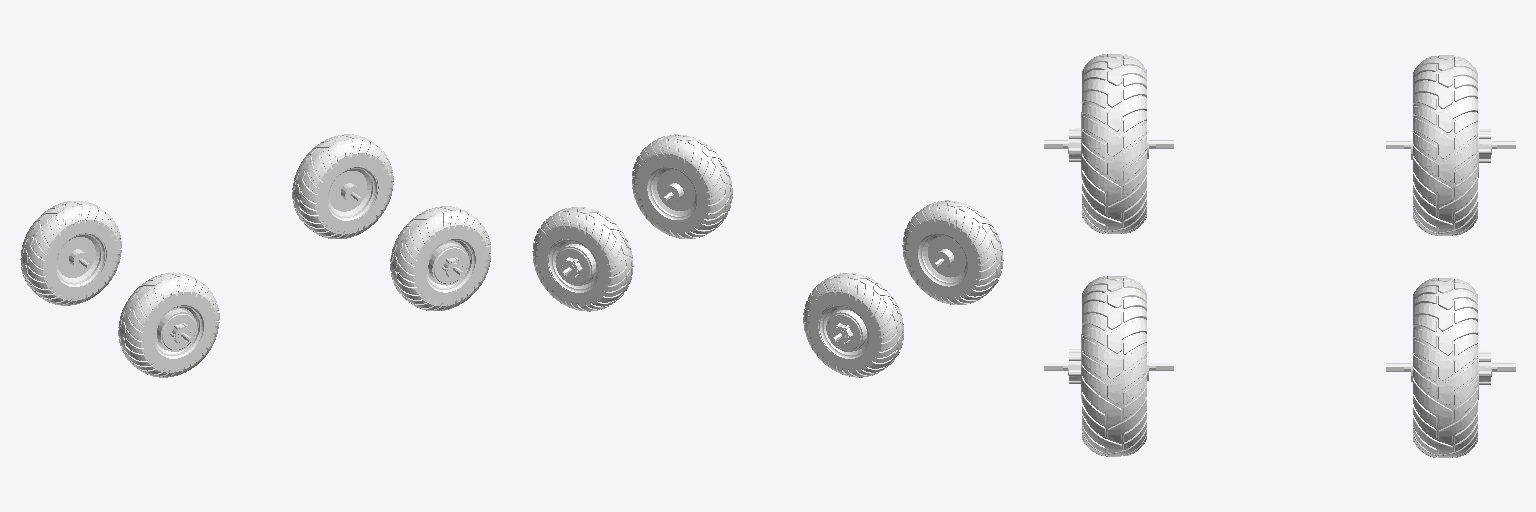
The robot description file, URDF, robot "ranger_desription":
<?xml version="1.0" encoding="utf-8"?>
<robot
  name="ranger_desription">
  <link
    name="base_link">
    <inertial>
      <origin
        xyz="-0.0169024482972742 0.00678181341928169 0.0577617033872562"
        rpy="0 0 0" />
      <mass
        value="88.757612699937" />
      <inertia
        ixx="1.71234483232615"
        ixy="0.0110513757122467"
        ixz="-0.0193888071078111"
        iyy="4.90027909719284"
        iyz="-5.41974668008998E-05"
        izz="6.3942540769903" />
    </inertial>
    <visual>
      <origin
        xyz="0 0 0"
        rpy="0 0 0" />
      <geometry>
        <mesh
          filename="package://ranger_desription/meshes/base_link.STL" />
      </geometry>
      <material
        name="">
        <color
          rgba="1 1 1 1" />
      </material>
    </visual>
    <collision>
      <origin
        xyz="0 0 0"
        rpy="0 0 0" />
      <geometry>
        <mesh
          filename="package://ranger_desription/meshes/base_link.STL" />
      </geometry>
    </collision>
  </link>
  <link
    name="fr_steering_link">
    <inertial>
      <origin
        xyz="0.0001118 -0.0073218 -0.085228"
        rpy="0 0 0" />
      <mass
        value="2.0957" />
      <inertia
        ixx="0.0077827"
        ixy="1.2908E-08"
        ixz="7.5611E-07"
        iyy="0.0012664"
        iyz="-3.9878E-06"
        izz="0.0079221" />
    </inertial>
    <visual>
      <origin
        xyz="0 0 0"
        rpy="0 0 0" />
      <geometry>
        <mesh
          filename="package://ranger_desription/meshes/fr_steering_link.STL" />
      </geometry>
      <material
        name="">
        <color
          rgba="0 0 0 1" />
      </material>
    </visual>
    <collision>
      <origin
        xyz="0 0 0"
        rpy="0 0 0" />
      <geometry>
        <mesh
          filename="package://ranger_desription/meshes/fr_steering_link.STL" />
      </geometry>
    </collision>
  </link>
  <joint
    name="fr_steering_joint"
    type="revolute">
    <origin
      xyz="0.445 -0.28 0.0335"
      rpy="0 0 0" />
    <parent
      link="base_link" />
    <child
      link="fr_steering_link" />
    <axis
      xyz="0 0 -1" />
    <limit
      lower="-3.14"
      upper="3.14"
      effort="100"
      velocity="10" />
  </joint>
  <link
    name="fr_wheel_link">
    <inertial>
      <origin
        xyz="-0.00095113 -1.6964E-07 0.0020954"
        rpy="0 0 0" />
      <mass
        value="11.468" />
      <inertia
        ixx="0.05332"
        ixy="3.0935E-09"
        ixz="8.2702E-07"
        iyy="0.080083"
        iyz="2.1462E-07"
        izz="0.11423" />
    </inertial>
    <visual>
      <origin
        xyz="0 0 0"
        rpy="0 0 0" />
      <geometry>
        <mesh
          filename="package://ranger_desription/meshes/fr_wheel_link.STL" />
      </geometry>
      <material
        name="">
        <color
          rgba="1 1 1 1" />
      </material>
    </visual>
    <collision>
      <origin
        xyz="0 0 0"
        rpy="0 0 0" />
      <geometry>
        <mesh
          filename="package://ranger_desription/meshes/fr_wheel_link.STL" />
      </geometry>
    </collision>
  </link>
  <joint
    name="fr_wheel_joint"
    type="continuous">
    <origin
      xyz="0 0.001 -0.2918"
      rpy="1.5708 0 0" />
    <parent
      link="fr_steering_link" />
    <child
      link="fr_wheel_link" />
    <axis
      xyz="0 0 1" />
  </joint>
  <link
    name="fl_steering_wheel_link">
    <inertial>
      <origin
        xyz="0.00010411 0.0077919 -0.086394"
        rpy="0 0 0" />
      <mass
        value="2.1046" />
      <inertia
        ixx="0.0077836"
        ixy="1.5708E-08"
        ixz="1.3527E-06"
        iyy="0.0012676"
        iyz="3.3293E-06"
        izz="0.007923" />
    </inertial>
    <visual>
      <origin
        xyz="0 0 0"
        rpy="0 0 0" />
      <geometry>
        <mesh
          filename="package://ranger_desription/meshes/fl_steering_wheel_link.STL" />
      </geometry>
      <material
        name="">
        <color
          rgba="0 0 0 1" />
      </material>
    </visual>
    <collision>
      <origin
        xyz="0 0 0"
        rpy="0 0 0" />
      <geometry>
        <mesh
          filename="package://ranger_desription/meshes/fl_steering_wheel_link.STL" />
      </geometry>
    </collision>
  </link>
  <joint
    name="fl_steering_wheel_joint"
    type="revolute">
    <origin
      xyz="0.445 0.28 0.0335"
      rpy="0 0 0" />
    <parent
      link="base_link" />
    <child
      link="fl_steering_wheel_link" />
    <axis
      xyz="0 0 -1" />
    <limit
      lower="-3.14"
      upper="3.14"
      effort="100"
      velocity="10" />
  </joint>
  <link
    name="fl_wheel_link">
    <inertial>
      <origin
        xyz="0.00031140886112424 -1.6963766547029E-07 -0.00209855961757532"
        rpy="0 0 0" />
      <mass
        value="11.4679471902891" />
      <inertia
        ixx="0.0533204704631189"
        ixy="3.00515938467181E-09"
        ixz="8.26975779320523E-07"
        iyy="0.0800825148768417"
        iyz="2.14912097018666E-07"
        izz="0.114229464676059" />
    </inertial>
    <visual>
      <origin
        xyz="0 0 0"
        rpy="0 0 0" />
      <geometry>
        <mesh
          filename="package://ranger_desription/meshes/fl_wheel_link.STL" />
      </geometry>
      <material
        name="">
        <color
          rgba="1 1 1 1" />
      </material>
    </visual>
    <collision>
      <origin
        xyz="0 0 0"
        rpy="0 0 0" />
      <geometry>
        <mesh
          filename="package://ranger_desription/meshes/fl_wheel_link.STL" />
      </geometry>
    </collision>
  </link>
  <joint
    name="fl_wheel_joint"
    type="continuous">
    <origin
      xyz="0 -0.001 -0.29345"
      rpy="1.5708 0 0" />
    <parent
      link="fl_steering_wheel_link" />
    <child
      link="fl_wheel_link" />
    <axis
      xyz="0 0 -1" />
  </joint>
  <link
    name="rl_steering_wheel_link">
    <inertial>
      <origin
        xyz="0.000104728166458012 0.00747335013616163 -0.0851648618324647"
        rpy="0 0 0" />
      <mass
        value="2.09213915941036" />
      <inertia
        ixx="0.00778255710444038"
        ixy="1.57079408079638E-08"
        ixz="1.35270333030104E-06"
        iyy="0.00126619444273402"
        iyz="3.32543440503297E-06"
        izz="0.00792198479734778" />
    </inertial>
    <visual>
      <origin
        xyz="0 0 0"
        rpy="0 0 0" />
      <geometry>
        <mesh
          filename="package://ranger_desription/meshes/rl_steering_wheel_link.STL" />
      </geometry>
      <material
        name="">
        <color
          rgba="0 0 0 1" />
      </material>
    </visual>
    <collision>
      <origin
        xyz="0 0 0"
        rpy="0 0 0" />
      <geometry>
        <mesh
          filename="package://ranger_desription/meshes/rl_steering_wheel_link.STL" />
      </geometry>
    </collision>
  </link>
  <joint
    name="rl_steering_wheel_joint"
    type="revolute">
    <origin
      xyz="-0.445 0.28 0.0335000000000006"
      rpy="0 0 0" />
    <parent
      link="base_link" />
    <child
      link="rl_steering_wheel_link" />
    <axis
      xyz="0 0 -1" />
    <limit
      lower="-3.14"
      upper="3.14"
      effort="100"
      velocity="10" />
  </joint>
  <link
    name="rl_wheel_link">
    <inertial>
      <origin
        xyz="0.000311408861124352 -1.69637665525801E-07 -0.00209855961757532"
        rpy="0 0 0" />
      <mass
        value="11.4679471902891" />
      <inertia
        ixx="0.0533204704631187"
        ixy="3.00515931268087E-09"
        ixz="8.26975779336715E-07"
        iyy="0.0800825148768415"
        iyz="2.14912096993789E-07"
        izz="0.114229464676059" />
    </inertial>
    <visual>
      <origin
        xyz="0 0 0"
        rpy="0 0 0" />
      <geometry>
        <mesh
          filename="package://ranger_desription/meshes/rl_wheel_link.STL" />
      </geometry>
      <material
        name="">
        <color
          rgba="1 1 1 1" />
      </material>
    </visual>
    <collision>
      <origin
        xyz="0 0 0"
        rpy="0 0 0" />
      <geometry>
        <mesh
          filename="package://ranger_desription/meshes/rl_wheel_link.STL" />
      </geometry>
    </collision>
  </link>
  <joint
    name="rl_wheel_joint"
    type="continuous">
    <origin
      xyz="0 -0.001 -0.29345"
      rpy="1.5708 0 0" />
    <parent
      link="rl_steering_wheel_link" />
    <child
      link="rl_wheel_link" />
    <axis
      xyz="0 0 -1" />
  </joint>
  <link
    name="rr_steering_wheel_link">
    <inertial>
      <origin
        xyz="0.000104728166458012 0.00747335013616163 -0.0851648618324647"
        rpy="0 0 0" />
      <mass
        value="2.09213915941036" />
      <inertia
        ixx="0.00778255710444038"
        ixy="1.57079408079638E-08"
        ixz="1.35270333030104E-06"
        iyy="0.00126619444273402"
        iyz="3.32543440503297E-06"
        izz="0.00792198479734778" />
      </inertial>
    <visual>
      <origin
        xyz="0 0 0"
        rpy="0 0 0" />
      <geometry>
        <mesh
          filename="package://ranger_desription/meshes/rr_steering_wheel_link.STL" />
      </geometry>
      <material
        name="">
        <color
          rgba="0 0 0 1" />
      </material>
    </visual>
    <collision>
      <origin
        xyz="0 0 0"
        rpy="0 0 0" />
      <geometry>
        <mesh
          filename="package://ranger_desription/meshes/rr_steering_wheel_link.STL" />
      </geometry>
    </collision>
  </link>
  <joint
    name="rr_steering_wheel_joint"
    type="revolute">
    <origin
      xyz="-0.445 -0.28 0.0335000000000006"
      rpy="0 0 0" />
    <parent
      link="base_link" />
    <child
      link="rr_steering_wheel_link" />
    <axis
      xyz="0 0 -1" />
    <limit
      lower="-3.14"
      upper="3.14"
      effort="100"
      velocity="10" />
  </joint>
  <link
    name="rr_wheel_link">
    <inertial>
      <origin
        xyz="-0.000951130287434154 -1.69637665581313E-07 0.00209543087328679"
        rpy="0 0 0" />
      <mass
        value="11.4679471902891" />
      <inertia
        ixx="0.0533204700928865"
        ixy="3.09346356458604E-09"
        ixz="8.27015234587234E-07"
        iyy="0.0800825150191658"
        iyz="2.14615155034353E-07"
        izz="0.114229464195811" />
    </inertial>
    <visual>
      <origin
        xyz="0 0 0"
        rpy="0 0 0" />
      <geometry>
        <mesh
          filename="package://ranger_desription/meshes/rr_wheel_link.STL" />
      </geometry>
      <material
        name="">
        <color
          rgba="1 1 1 1" />
      </material>
    </visual>
    <collision>
      <origin
        xyz="0 0 0"
        rpy="0 0 0" />
      <geometry>
        <mesh
          filename="package://ranger_desription/meshes/rr_wheel_link.STL" />
      </geometry>
    </collision>
  </link>
  <joint
    name="rr_wheel_joint"
    type="continuous">
    <origin
      xyz="0 0.001 -0.2918"
      rpy="1.5708 0 0" />
    <parent
      link="rr_steering_wheel_link" />
    <child
      link="rr_wheel_link" />
    <axis
      xyz="0 0 1" />
  </joint>
</robot>

--- Render facts (derived) ---
3 views of the same robot in one strip: view 1: azimuth 30°, elevation 25°; view 2: azimuth 150°, elevation 25°; view 3: azimuth 270°, elevation 25° (orthographic).
Model ranger_desription with 9 links and 8 joints (4 revolute, 4 continuous), rooted at base_link, posed every joint at zero.
Links seen in each view (by area): view 1: rr_wheel_link, fl_wheel_link, rl_wheel_link, fr_wheel_link; view 2: rl_wheel_link, fr_wheel_link, fl_wheel_link, rr_wheel_link; view 3: fl_wheel_link, rr_wheel_link, fr_wheel_link, rl_wheel_link.
Boxes of the visible links, bbox=[...] form: rr_wheel_link: bbox=[118, 272, 219, 377]; fl_wheel_link: bbox=[292, 134, 393, 238]; rl_wheel_link: bbox=[20, 201, 121, 305]; fr_wheel_link: bbox=[390, 206, 490, 310]; rl_wheel_link: bbox=[803, 273, 903, 377]; fr_wheel_link: bbox=[632, 134, 732, 238]; fl_wheel_link: bbox=[532, 207, 633, 311]; rr_wheel_link: bbox=[902, 200, 1003, 304]; fl_wheel_link: bbox=[1386, 278, 1515, 457]; rr_wheel_link: bbox=[1044, 54, 1173, 233]; fr_wheel_link: bbox=[1044, 276, 1173, 456]; rl_wheel_link: bbox=[1386, 55, 1515, 235].
Bounding box of the posed robot: 1.2 × 0.797 × 0.3076 m (x, y, z).
4 mesh visuals loaded from 9 distinct referenced files (4 binary STL); not drawn: 5 (reference not matched to a file when rendering).